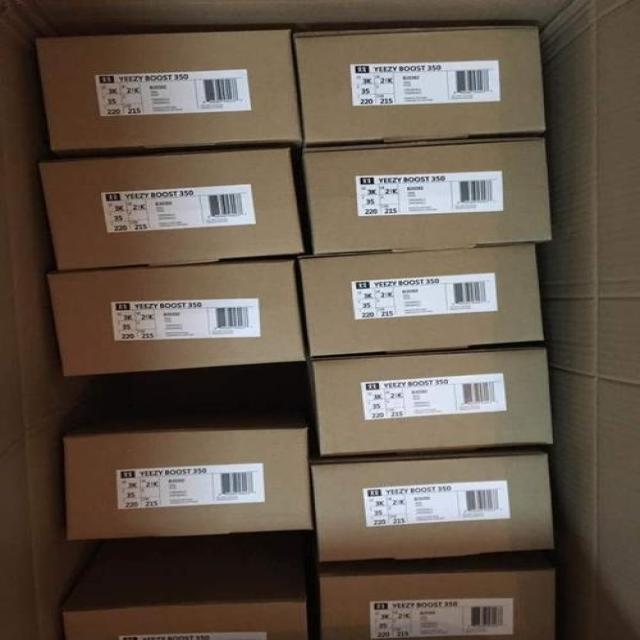box: (1, 3, 639, 639), (32, 142, 304, 272), (36, 25, 304, 150), (44, 256, 309, 374), (292, 26, 544, 144), (303, 136, 555, 251), (296, 241, 545, 356), (61, 428, 313, 541), (61, 530, 316, 639), (308, 345, 556, 457), (312, 450, 556, 562), (320, 545, 556, 637)
